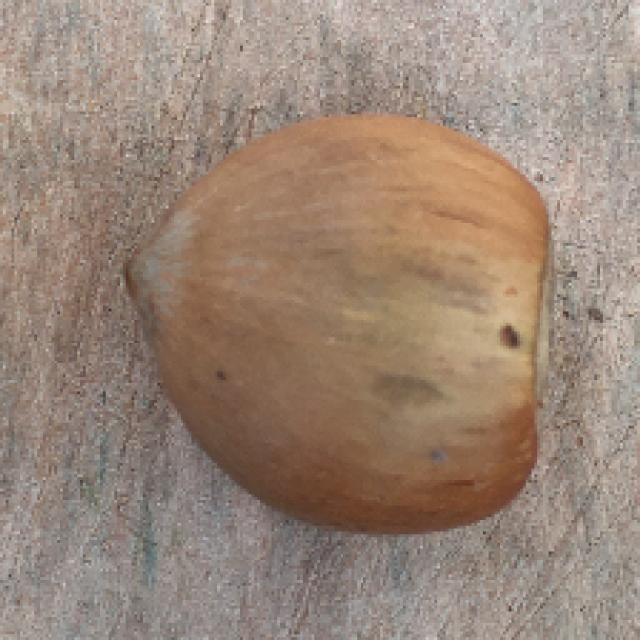damagedHazelnut: (111, 100, 574, 547)
